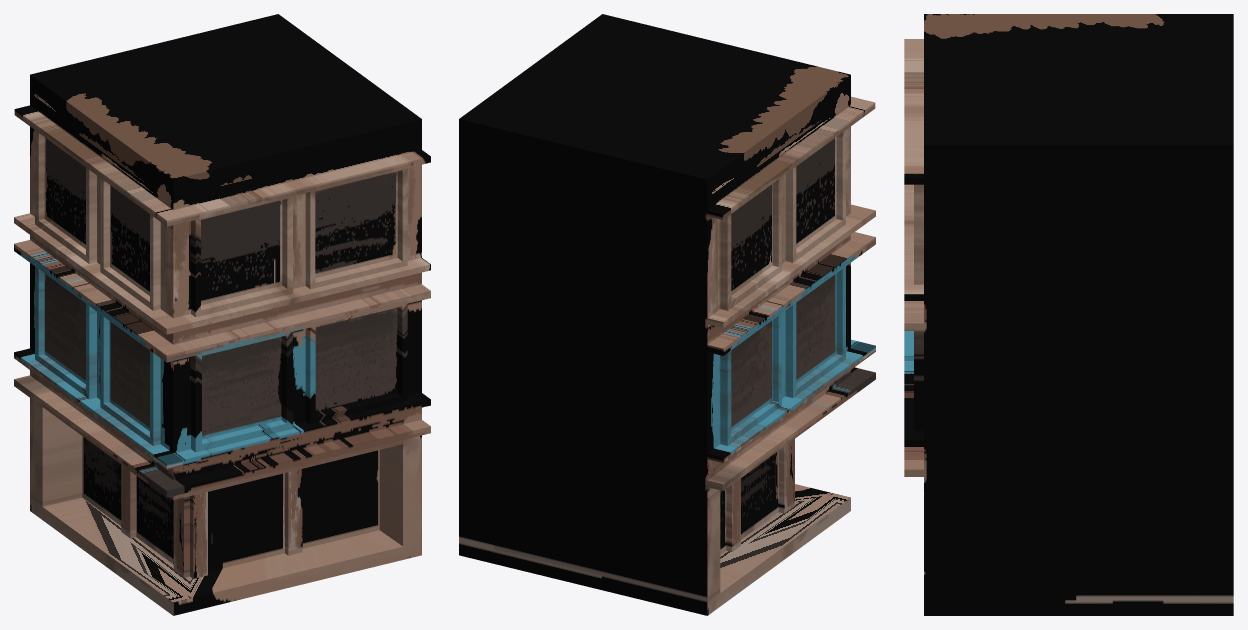
File: corner 1.glb
3 views of the same model, side by side, from view 1: azimuth 30°, elevation 25°; view 2: azimuth 150°, elevation 25°; view 3: azimuth 270°, elevation 25° (orthographic). The views are drawn at different scales.
Parts seen in each view (by area): view 1: bangunan perempatan; view 2: bangunan perempatan; view 3: bangunan perempatan.
Boxes of the visible parts, left/top/right/bottom form: bangunan perempatan: left=14, top=14, right=430, bottom=615; bangunan perempatan: left=459, top=14, right=875, bottom=615; bangunan perempatan: left=904, top=14, right=1233, bottom=615.
Bounding box in the file's own units: 8.17 × 12.88 × 8.16.
Materials: 1 (1 with a texture image).
